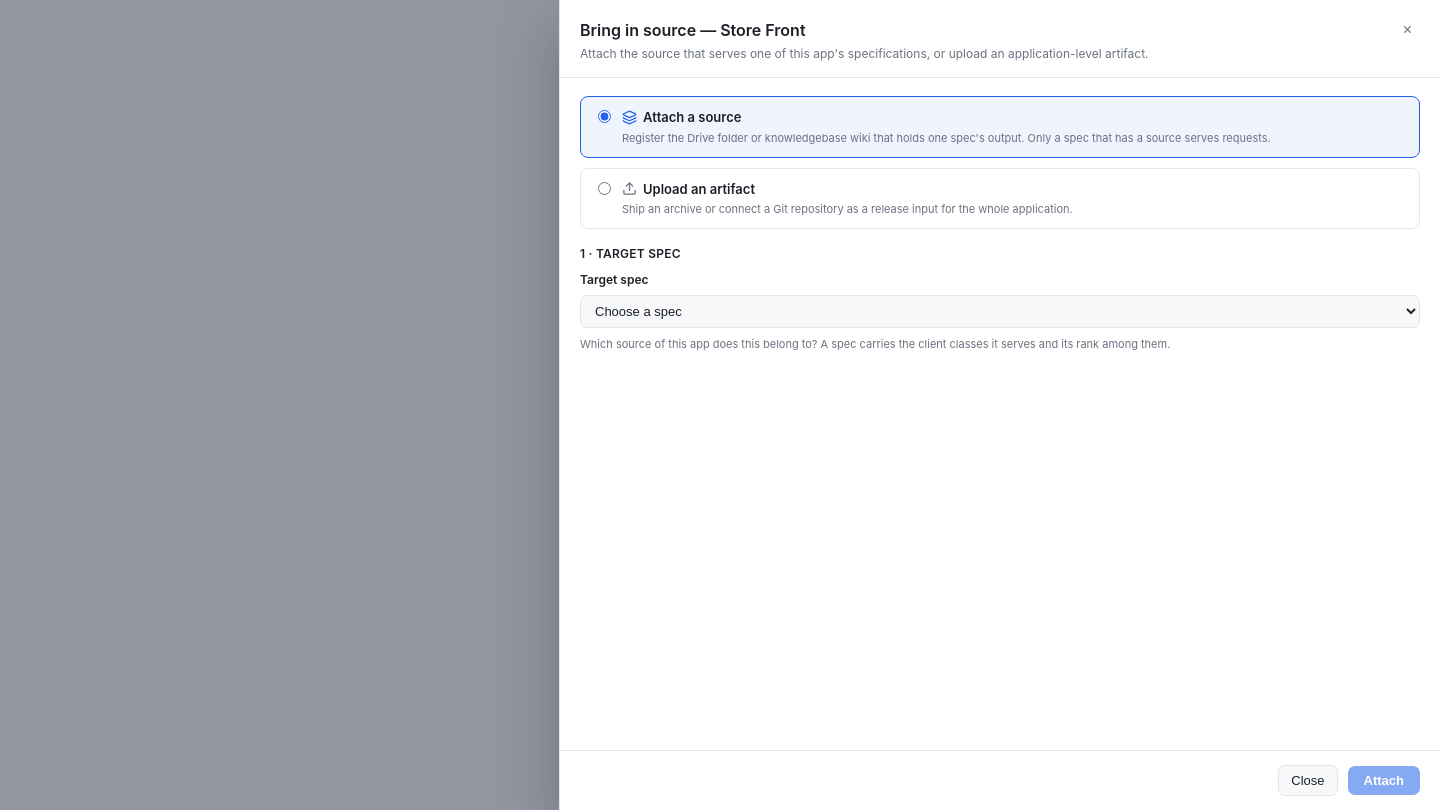
Test: source-intake dialog — attach a source › names the two states in which a successful attach still would not serve
The image size is (1440, 810).
Select "web-pc · PC web" in the dropdown labelled "Target spec" at (1000, 312), box [580,295,1420,328]
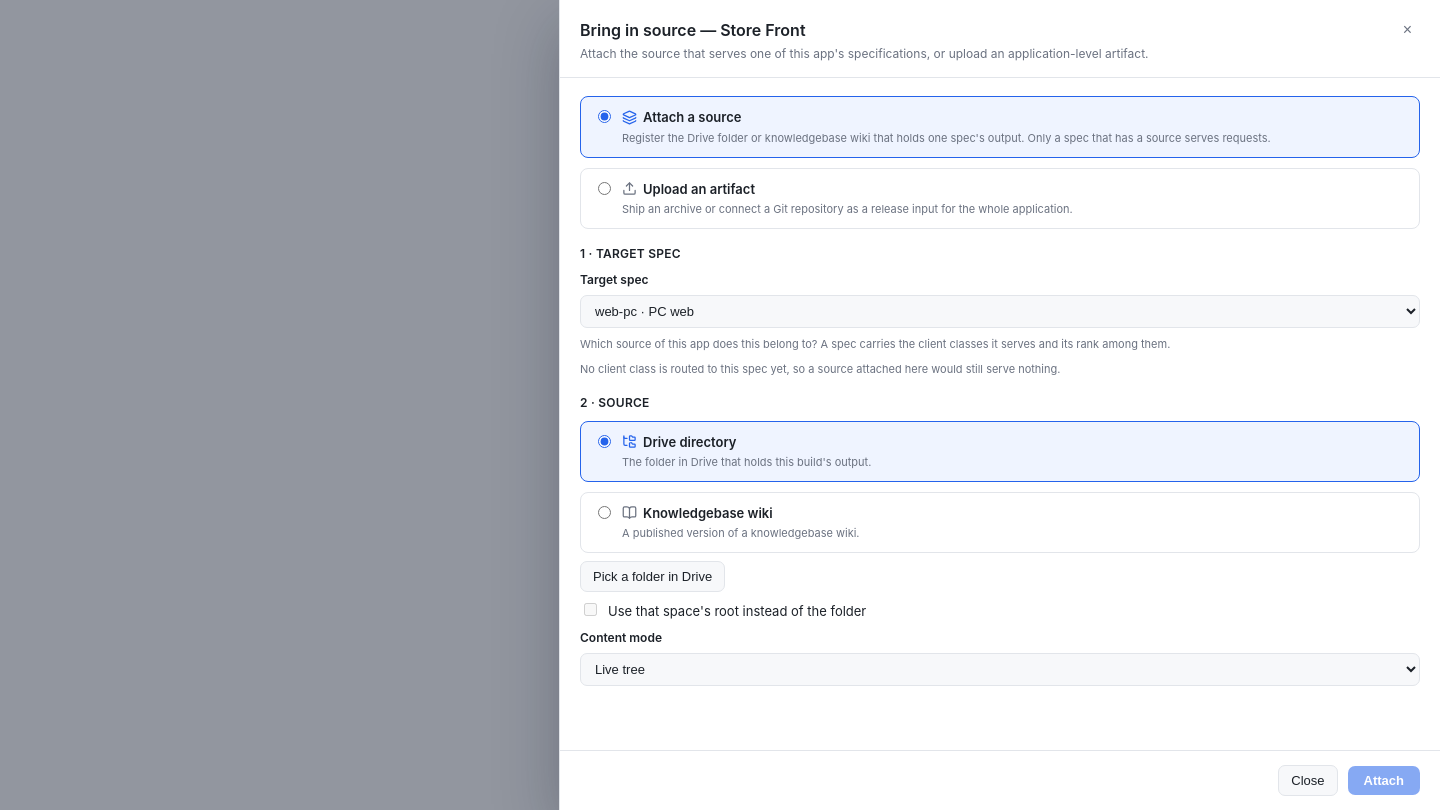
Expected: the text "No client class is routed to this spec yet" is shown, [580,362,1060,376]
Select "web-h5 · H5" in the dropdown labelled "Target spec" at (1000, 312), box [580,295,1420,328]
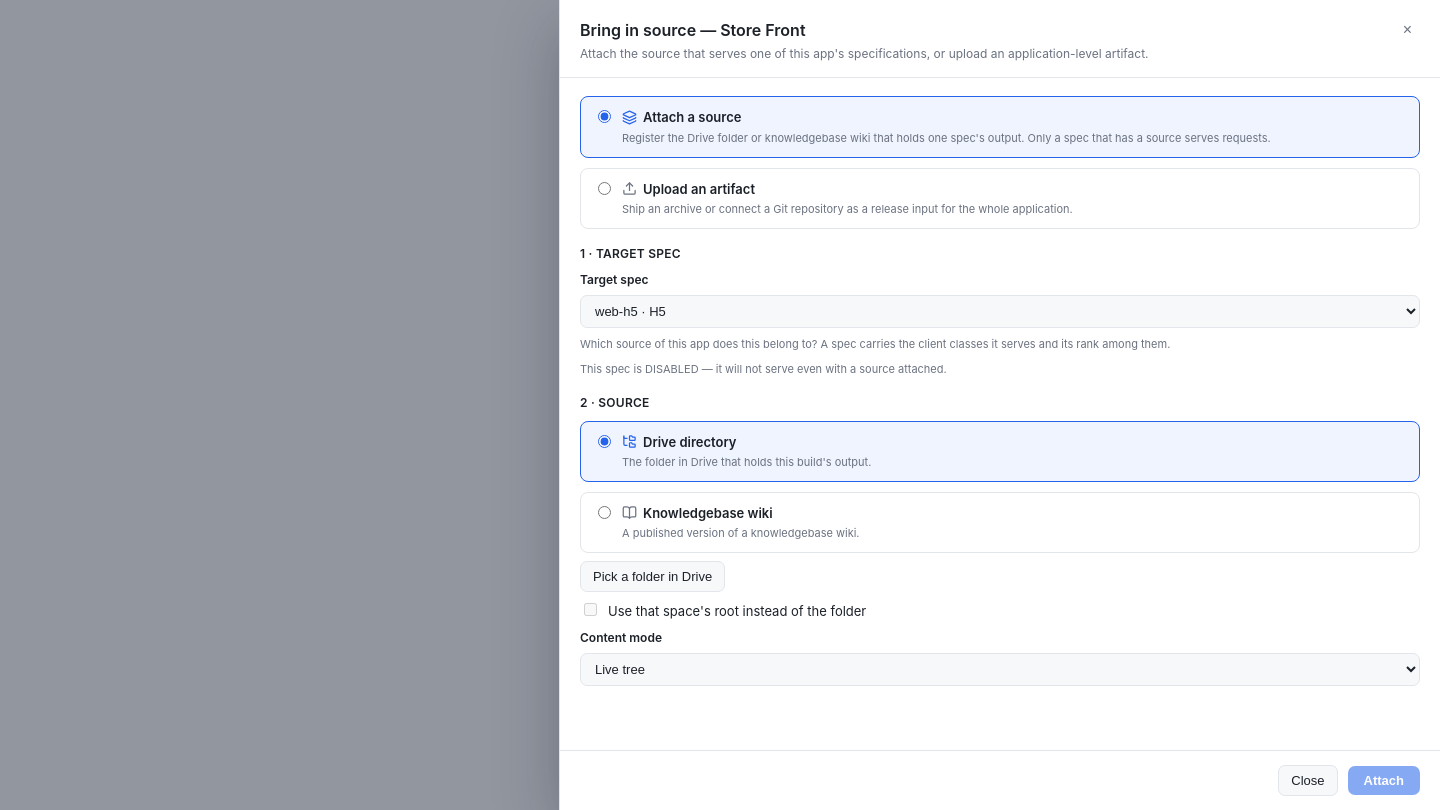
Expected: the text "This spec is DISABLED" is shown, [580,362,947,376]
